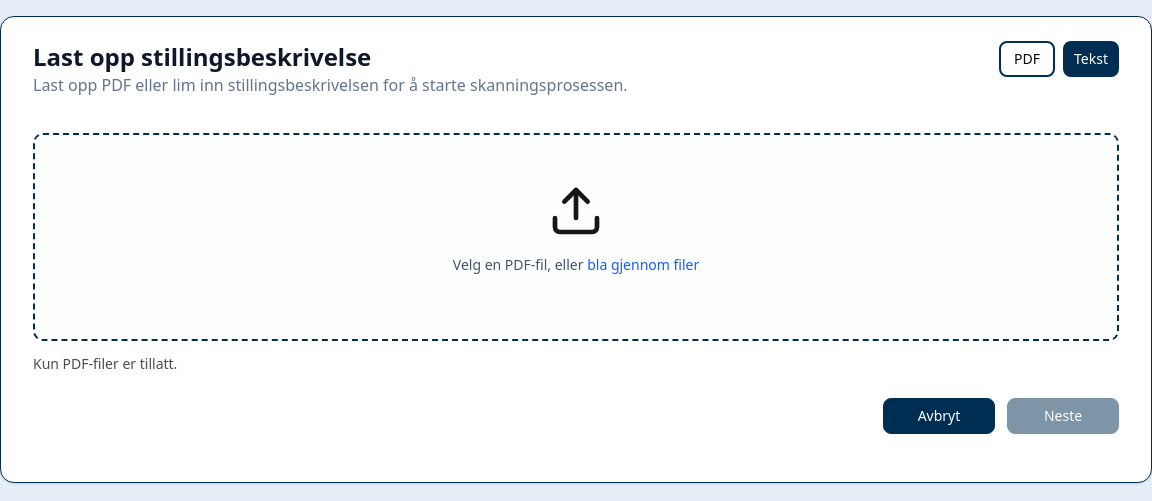
Test: New screening components › UploadJobDescriptionCard toggles modes
The image size is (1152, 501).
Expected: the button "PDF" is shown, x1=999 y1=41 x2=1055 y2=77
Click the button "Tekst": {"x": 1091, "y": 59} x1=1063 y1=41 x2=1119 y2=77
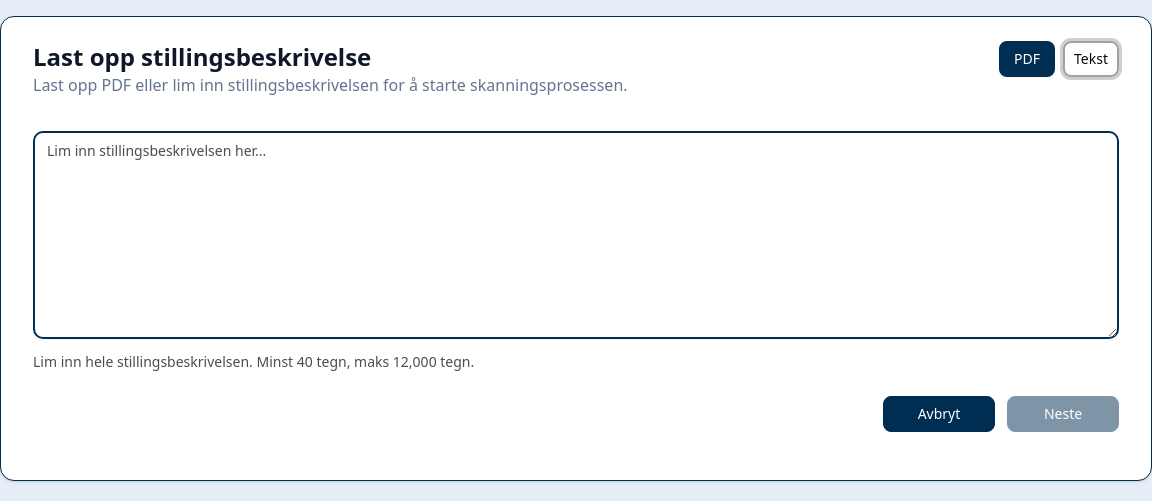
Expected: the text box with placeholder "Lim inn stillingsbeskrivelsen her..." is shown, x1=33 y1=131 x2=1119 y2=339
